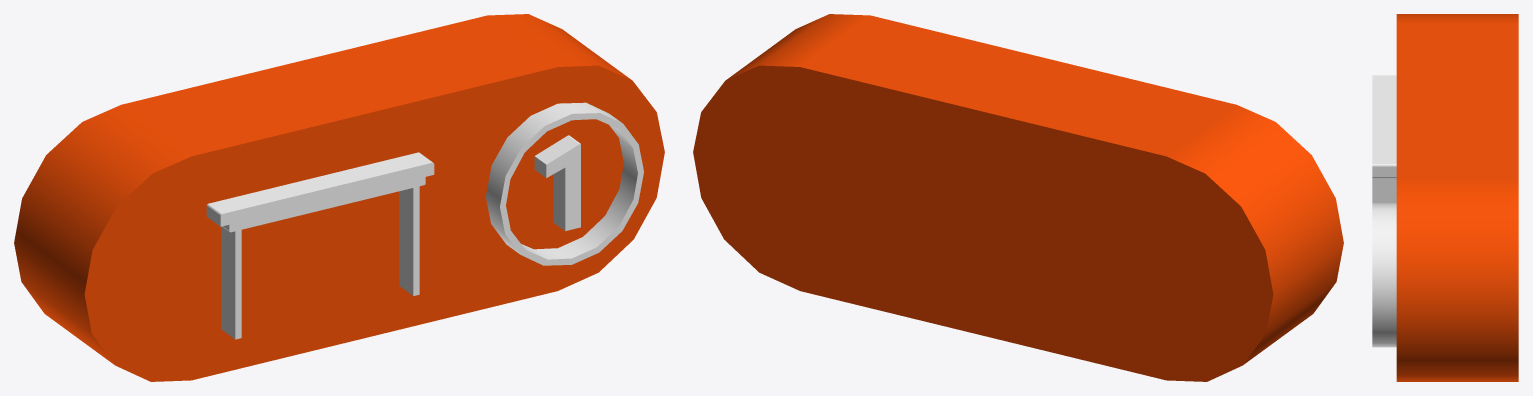
The model's file is Table_1.fbx.
The picture shows the model from 3 angles, left to right: view 1: azimuth 30°, elevation 25°; view 2: azimuth 150°, elevation 25°; view 3: azimuth 270°, elevation 25°; orthographic projection. The views are drawn at different scales.
Parts seen in each view (by area): view 1: Orange, Object_3, Object_7, Object_1, Object_8, Object_5, Object_10, Object_6; view 2: Orange; view 3: Orange, Object_3, Object_7, Object_10, Object_8.
Boxes of the visible parts, x1=… form: Orange: x1=14, y1=14, x2=664, y2=381; Object_3: x1=485, y1=102, x2=643, y2=265; Object_7: x1=206, y1=152, x2=433, y2=216; Object_1: x1=534, y1=135, x2=580, y2=230; Object_8: x1=206, y1=152, x2=434, y2=226; Object_5: x1=221, y1=227, x2=241, y2=339; Object_10: x1=399, y1=188, x2=419, y2=295; Object_6: x1=222, y1=177, x2=425, y2=232; Orange: x1=693, y1=14, x2=1343, y2=381; Orange: x1=1396, y1=14, x2=1518, y2=381; Object_3: x1=1372, y1=203, x2=1396, y2=347; Object_7: x1=1372, y1=75, x2=1396, y2=163; Object_10: x1=1372, y1=178, x2=1396, y2=203; Object_8: x1=1372, y1=164, x2=1396, y2=175.
Size of the model in its own units: 4.75 by 1.2 by 1.75.
